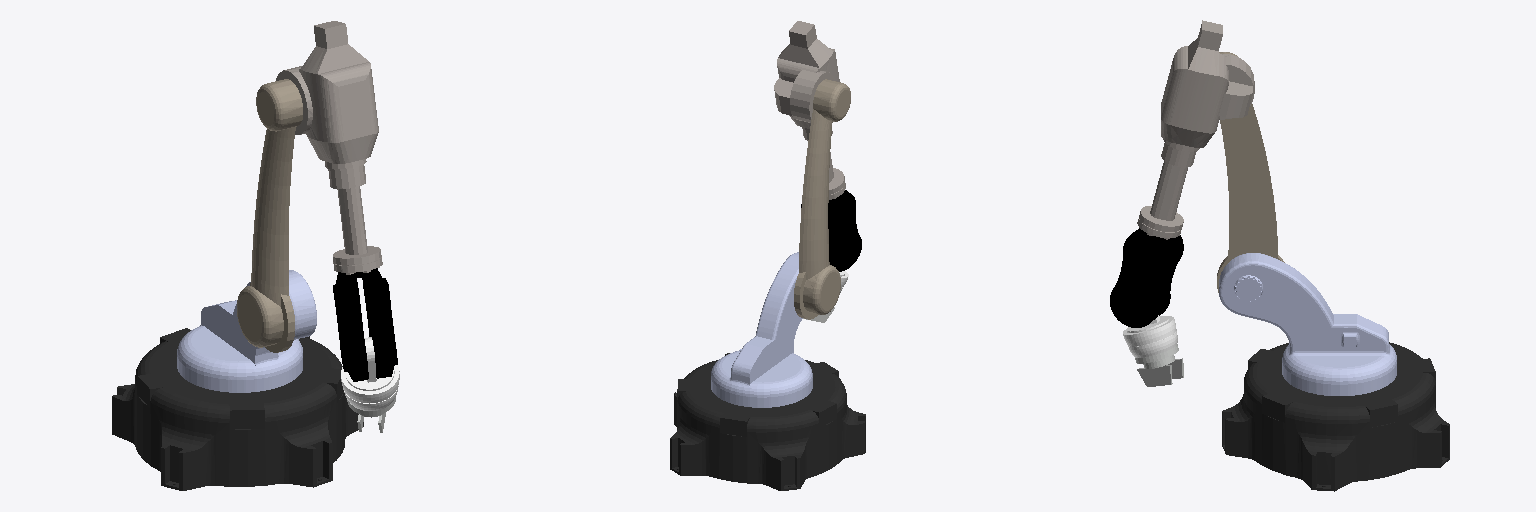
URDF robot description (RoboticARMurdf):
<?xml version="1.0" encoding="utf-8"?>
<!-- This URDF was automatically created by SolidWorks to URDF Exporter! Originally created by [author] ([email redacted]) 
     Commit Version: 1.6.0-4-g7f85cfe  Build Version: 1.6.7995.38578
     For more information, please see http://wiki.ros.org/sw_urdf_exporter -->
<robot
  name="RoboticARMurdf">
  <link
    name="base_link">
    <inertial>
      <origin
        xyz="5.11583882566863E-06 -4.970201199897E-06 0.0292081671543987"
        rpy="0 0 0" />
      <mass
        value="1.12635106638512" />
      <inertia
        ixx="0.00203037848776675"
        ixy="3.18650414985995E-07"
        ixz="-1.32343768470137E-07"
        iyy="0.00203038057182127"
        iyz="1.28842828252533E-07"
        izz="0.0033785920550505" />
    </inertial>
    <visual>
      <origin
        xyz="0 0 0"
        rpy="0 0 0" />
      <geometry>
        <mesh
          filename="package://RoboticARMurdf/meshes/base_link.STL" />
      </geometry>
      <material
        name="">
        <color
          rgba="0.219607843137255 0.219607843137255 0.219607843137255 1" />
      </material>
    </visual>
    <collision>
      <origin
        xyz="0 0 0"
        rpy="0 0 0" />
      <geometry>
        <mesh
          filename="package://RoboticARMurdf/meshes/base_link.STL" />
      </geometry>
    </collision>
  </link>
  <link
    name="link_2">
    <inertial>
      <origin
        xyz="-0.021818 0.089587 0.23306"
        rpy="0 0 0" />
      <mass
        value="0.26927" />
      <inertia
        ixx="0.0004027"
        ixy="9.1655E-05"
        ixz="0.00011621"
        iyy="0.00039751"
        iyz="-0.00011933"
        izz="0.00036148" />
    </inertial>
    <visual>
      <origin
        xyz="0 0 0"
        rpy="0 0 0" />
      <geometry>
        <mesh
          filename="package://RoboticARMurdf/meshes/link_2.STL" />
      </geometry>
      <material
        name="">
        <color
          rgba="0.79216 0.81961 0.93333 1" />
      </material>
    </visual>
    <collision>
      <origin
        xyz="0 0 0"
        rpy="0 0 0" />
      <geometry>
        <mesh
          filename="package://RoboticARMurdf/meshes/link_2.STL" />
      </geometry>
    </collision>
  </link>
  <joint
    name="joint_1"
    type="continuous">
    <origin
      xyz="0.0465036846489575 0.0661492646377312 -0.148773986749193"
      rpy="0 0 2.37519579033159" />
    <parent
      link="base_link" />
    <child
      link="link_2" />
    <axis
      xyz="0 0 -1" />
  </joint>
  <link
    name="link_3">
    <inertial>
      <origin
        xyz="0.008459 0.016618 0.070811"
        rpy="0 0 0" />
      <mass
        value="0.11268" />
      <inertia
        ixx="0.00053374"
        ixy="7.9433E-06"
        ixz="4.3403E-05"
        iyy="0.00053259"
        iyz="-4.238E-05"
        izz="2.3623E-05" />
    </inertial>
    <visual>
      <origin
        xyz="0 0 0"
        rpy="0 0 0" />
      <geometry>
        <mesh
          filename="package://RoboticARMurdf/meshes/link_3.STL" />
      </geometry>
      <material
        name="">
        <color
          rgba="0.65882 0.61961 0.56078 1" />
      </material>
    </visual>
    <collision>
      <origin
        xyz="0 0 0"
        rpy="0 0 0" />
      <geometry>
        <mesh
          filename="package://RoboticARMurdf/meshes/link_3.STL" />
      </geometry>
    </collision>
  </link>
  <joint
    name="joint_2"
    type="continuous">
    <origin
      xyz="-0.059089 0.12843 0.28093"
      rpy="0 0 0" />
    <parent
      link="link_2" />
    <child
      link="link_3" />
    <axis
      xyz="-0.72041 -0.69354 0" />
  </joint>
  <link
    name="link_4">
    <inertial>
      <origin
        xyz="-0.02369 0.0035803 -0.010272"
        rpy="0 0 0" />
      <mass
        value="0.19257" />
      <inertia
        ixx="0.00028196"
        ixy="1.8497E-05"
        ixz="-4.4468E-05"
        iyy="0.00029693"
        iyz="4.3819E-05"
        izz="8.886E-05" />
    </inertial>
    <visual>
      <origin
        xyz="0 0 0"
        rpy="0 0 0" />
      <geometry>
        <mesh
          filename="package://RoboticARMurdf/meshes/link_4.STL" />
      </geometry>
      <material
        name="">
        <color
          rgba="0.68627 0.65882 0.63922 1" />
      </material>
    </visual>
    <collision>
      <origin
        xyz="0 0 0"
        rpy="0 0 0" />
      <geometry>
        <mesh
          filename="package://RoboticARMurdf/meshes/link_4.STL" />
      </geometry>
    </collision>
  </link>
  <joint
    name="joint_3"
    type="continuous">
    <origin
      xyz="-0.017076 0.017738 0.17326"
      rpy="0 0 0" />
    <parent
      link="link_3" />
    <child
      link="link_4" />
    <axis
      xyz="0.72041 0.69354 0" />
  </joint>
  <link
    name="link_5">
    <inertial>
      <origin
        xyz="-0.0073748 0.0076605 -0.051308"
        rpy="0 0 0" />
      <mass
        value="0.077165" />
      <inertia
        ixx="4.5776E-05"
        ixy="2.65E-07"
        ixz="-4.8731E-06"
        iyy="4.7054E-05"
        iyz="5.2887E-06"
        izz="1.8289E-05" />
    </inertial>
    <visual>
      <origin
        xyz="0 0 0"
        rpy="0 0 0" />
      <geometry>
        <mesh
          filename="package://RoboticARMurdf/meshes/link_5.STL" />
      </geometry>
      <material
        name="">
        <color
          rgba="0 0 0 1" />
      </material>
    </visual>
    <collision>
      <origin
        xyz="0 0 0"
        rpy="0 0 0" />
      <geometry>
        <mesh
          filename="package://RoboticARMurdf/meshes/link_5.STL" />
      </geometry>
    </collision>
  </link>
  <joint
    name="joint_4"
    type="continuous">
    <origin
      xyz="-0.04454 0.023486 -0.10162"
      rpy="0 0 0" />
    <parent
      link="link_4" />
    <child
      link="link_5" />
    <axis
      xyz="0.16354 -0.16988 0.9718" />
  </joint>
  <link
    name="link_6">
    <inertial>
      <origin
        xyz="0.0025989 -0.011366 -0.026325"
        rpy="0 0 0" />
      <mass
        value="0.031582" />
      <inertia
        ixx="6.6023E-06"
        ixy="2.6238E-08"
        ixz="-2.3005E-08"
        iyy="6.3891E-06"
        iyz="-3.5664E-07"
        izz="5.6473E-06" />
    </inertial>
    <visual>
      <origin
        xyz="0 0 0"
        rpy="0 0 0" />
      <geometry>
        <mesh
          filename="package://RoboticARMurdf/meshes/link_6.STL" />
      </geometry>
      <material
        name="">
        <color
          rgba="1 1 1 1" />
      </material>
    </visual>
    <collision>
      <origin
        xyz="0 0 0"
        rpy="0 0 0" />
      <geometry>
        <mesh
          filename="package://RoboticARMurdf/meshes/link_6.STL" />
      </geometry>
    </collision>
  </link>
  <joint
    name="joint_5"
    type="continuous">
    <origin
      xyz="-0.012344 0.012822 -0.073347"
      rpy="0 0 0" />
    <parent
      link="link_5" />
    <child
      link="link_6" />
    <axis
      xyz="0.92813 0.36041 -0.093192" />
  </joint>
  <link
    name="gripper arm">
    <inertial>
      <origin
        xyz="0.0021424 -0.008207 -0.017888"
        rpy="0 0 0" />
      <mass
        value="0.0091291" />
      <inertia
        ixx="1.0322E-06"
        ixy="9.5437E-10"
        ixz="-9.1231E-09"
        iyy="1.0232E-06"
        iyz="7.4993E-08"
        izz="1.1928E-06" />
    </inertial>
    <visual>
      <origin
        xyz="0 0 0"
        rpy="0 0 0" />
      <geometry>
        <mesh
          filename="package://RoboticARMurdf/meshes/gripper arm.STL" />
      </geometry>
      <material
        name="">
        <color
          rgba="0.8 0.80784 0.8 1" />
      </material>
    </visual>
    <collision>
      <origin
        xyz="0 0 0"
        rpy="0 0 0" />
      <geometry>
        <mesh
          filename="package://RoboticARMurdf/meshes/gripper arm.STL" />
      </geometry>
    </collision>
  </link>
  <joint
    name="joint_6"
    type="continuous">
    <origin
      xyz="0.0013458 -0.010986 -0.029085"
      rpy="0 0 0" />
    <parent
      link="link_6" />
    <child
      link="gripper arm" />
    <axis
      xyz="-0.043245 0.35303 0.93461" />
  </joint>
</robot>

--- Facts derived from the render (not from the file) ---
Views: 3 orthographic renders of the robot side by side, from view 1: azimuth 30°, elevation 25°; view 2: azimuth 150°, elevation 25°; view 3: azimuth 270°, elevation 25°.
Model RoboticARMurdf with 7 links and 6 joints (6 continuous), rooted at base_link, posed all joints at 0.
Links seen in each view (by area): view 1: base_link, link_4, link_3, link_2, link_5, link_6; view 2: base_link, link_2, link_3, link_4, link_5; view 3: base_link, link_2, link_4, link_3, link_5, link_6, gripper arm.
Link boxes in pixels (left/top/right/bottom): base_link: left=112, top=328, right=363, bottom=490; link_4: left=276, top=21, right=382, bottom=274; link_3: left=237, top=79, right=302, bottom=352; link_2: left=177, top=270, right=316, bottom=392; link_5: left=333, top=268, right=397, bottom=381; link_6: left=341, top=337, right=399, bottom=410; base_link: left=670, top=353, right=865, bottom=490; link_2: left=711, top=252, right=812, bottom=407; link_3: left=794, top=79, right=850, bottom=319; link_4: left=774, top=21, right=845, bottom=199; link_5: left=801, top=190, right=861, bottom=271; base_link: left=1222, top=342, right=1449, bottom=491; link_2: left=1219, top=253, right=1396, bottom=395; link_4: left=1137, top=20, right=1254, bottom=239; link_3: left=1217, top=52, right=1284, bottom=292; link_5: left=1110, top=228, right=1183, bottom=327; link_6: left=1123, top=315, right=1177, bottom=357; gripper arm: left=1135, top=344, right=1183, bottom=386.
Size in the robot's own frame: 0.1771 by 0.2657 by 0.3664 metres.
Meshes: 7 distinct files referenced, 7 mesh visuals loaded (7 binary STL).